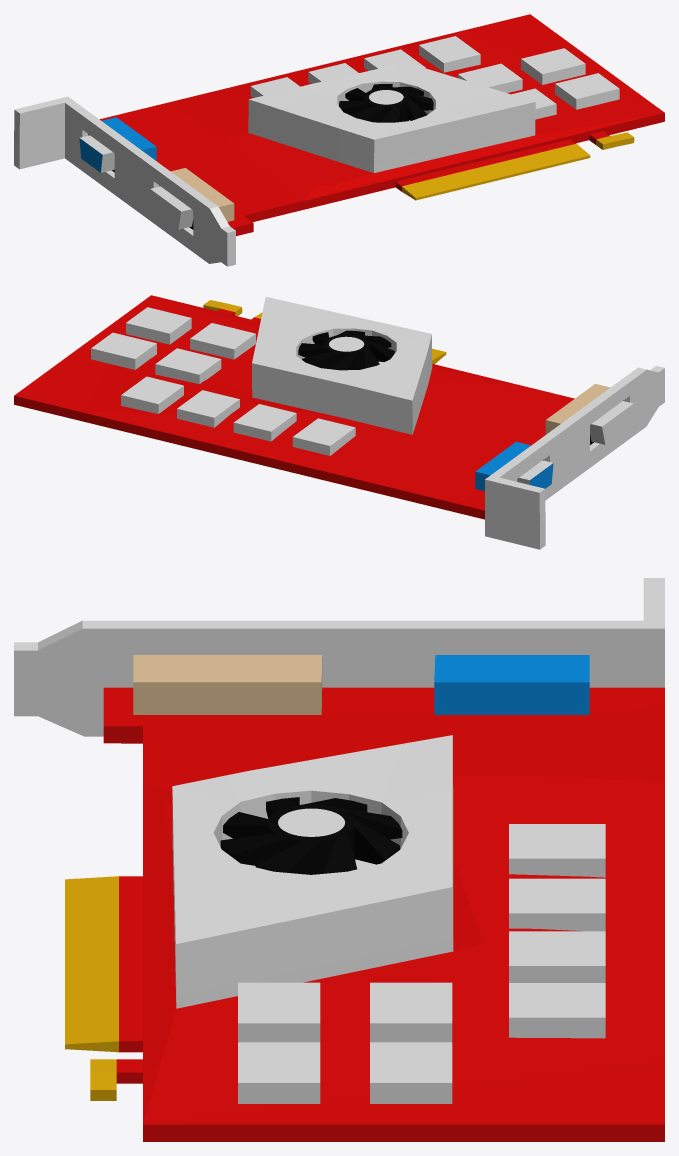
File: radeon9800.fbx
3 views of the same model, one above another, from view 1: azimuth 30°, elevation 25°; view 2: azimuth 150°, elevation 25°; view 3: azimuth 270°, elevation 25° (orthographic). The views are drawn at different scales.
Parts seen in each view (by area): view 1: Plane.001, Cylinder, Cube.004, Cube.007, Cube.003, Cube.005, Cube, Cube.006, Cube.001, Cube.002; view 2: Plane.001, Cylinder, Cube.007, Cube.004, Cube.006, Cube.005, Cube.003, Cube.002, Cube.001, Cube; view 3: Plane.001, Cylinder, Cube.003, Cube.004, Cube.007, Cube.001, Cube.005, Cube.006, Cube.002, Cube.
Part boxes in pixels (x1=…): Plane.001: x1=14, y1=14, x2=664, y2=266; Cylinder: x1=339, y1=84, x2=433, y2=122; Cube.004: x1=521, y1=48, x2=585, y2=84; Cube.007: x1=555, y1=73, x2=619, y2=109; Cube.003: x1=419, y1=36, x2=480, y2=72; Cube.005: x1=458, y1=63, x2=522, y2=92; Cube: x1=364, y1=49, x2=425, y2=70; Cube.006: x1=511, y1=88, x2=556, y2=119; Cube.001: x1=308, y1=63, x2=358, y2=83; Cube.002: x1=250, y1=77, x2=299, y2=97; Plane.001: x1=14, y1=295, x2=664, y2=549; Cylinder: x1=298, y1=330, x2=394, y2=370; Cube.007: x1=126, y1=307, x2=191, y2=344; Cube.004: x1=91, y1=332, x2=156, y2=369; Cube.006: x1=190, y1=323, x2=255, y2=359; Cube.005: x1=155, y1=348, x2=221, y2=383; Cube.003: x1=121, y1=376, x2=183, y2=413; Cube.002: x1=292, y1=418, x2=355, y2=455; Cube.001: x1=233, y1=404, x2=296, y2=441; Cube: x1=177, y1=390, x2=239, y2=427; Plane.001: x1=14, y1=578, x2=664, y2=1141; Cylinder: x1=220, y1=797, x2=402, y2=874; Cube.003: x1=509, y1=983, x2=605, y2=1038; Cube.004: x1=370, y1=1042, x2=452, y2=1103; Cube.007: x1=238, y1=1042, x2=320, y2=1103; Cube.001: x1=509, y1=878, x2=605, y2=931; Cube.005: x1=370, y1=982, x2=452, y2=1042; Cube.006: x1=238, y1=982, x2=320, y2=1042; Cube.002: x1=509, y1=824, x2=605, y2=877; Cube: x1=509, y1=931, x2=605, y2=982.
Size of the model in its own units: 136 by 16.69 by 76.61.
